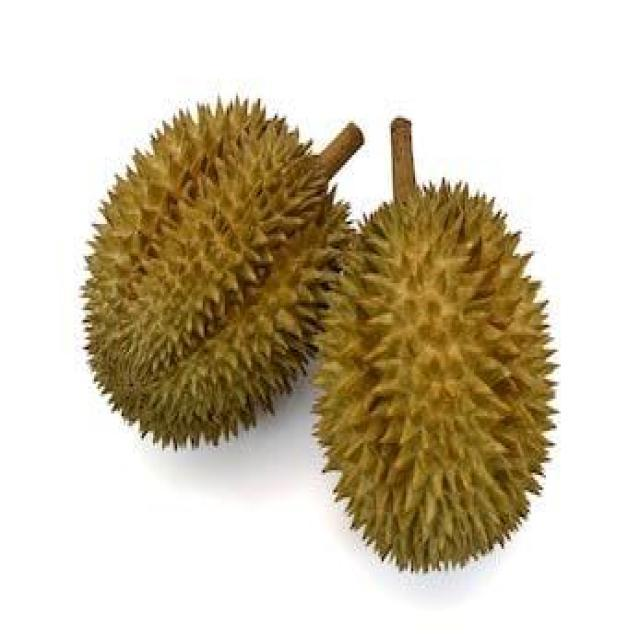mature: (315, 184, 555, 570), (84, 102, 348, 446)
